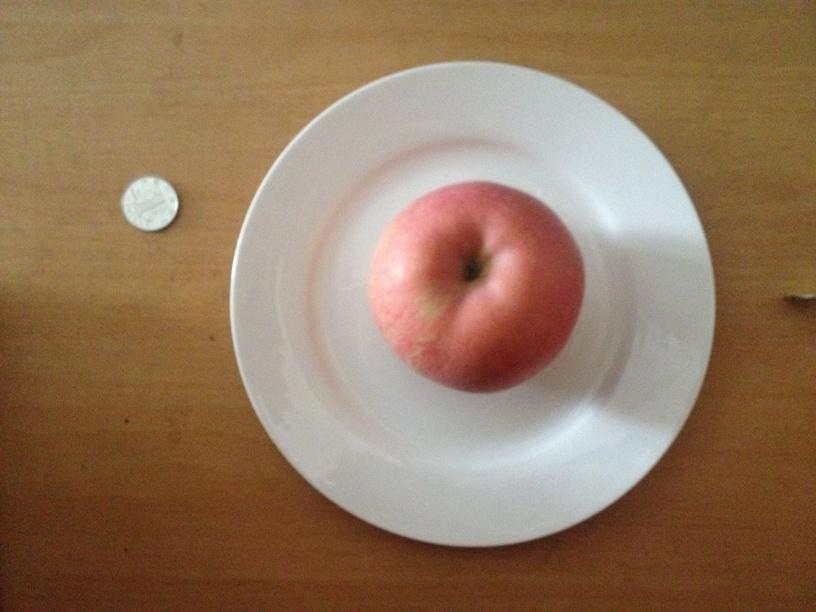apple: (364, 185, 583, 395)
coin: (118, 174, 178, 233)
